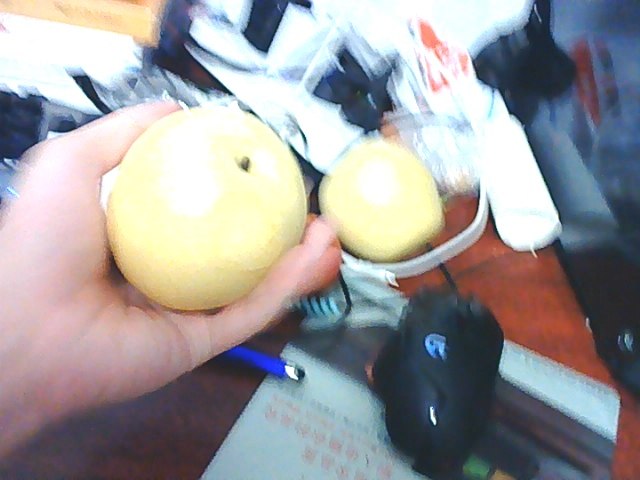pear: (103, 99, 308, 309), (314, 136, 455, 260)
